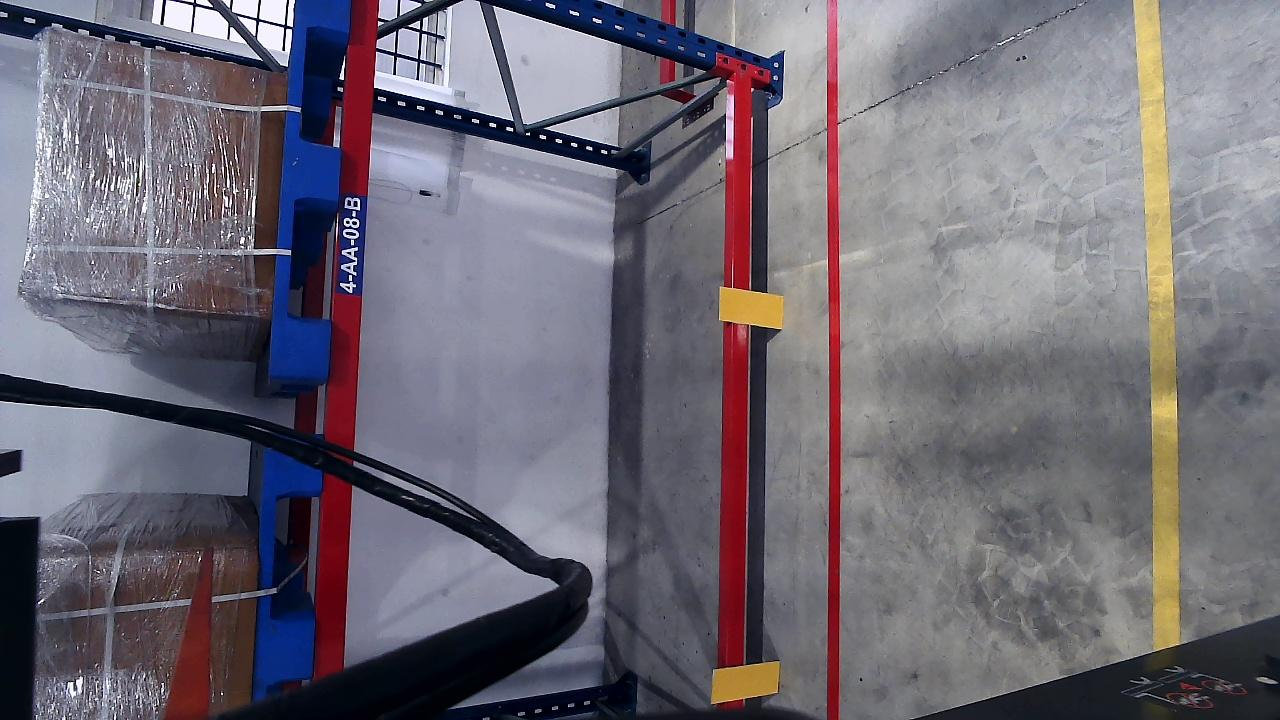h_rack: (320, 0, 381, 445), (725, 77, 758, 615), (312, 455, 358, 678)
orange_strip: (711, 660, 780, 702), (719, 285, 784, 328)
red_line: (821, 0, 846, 720)
small_pallet: (273, 2, 350, 374), (255, 445, 313, 680)
yellow_line: (1135, 0, 1181, 618)
